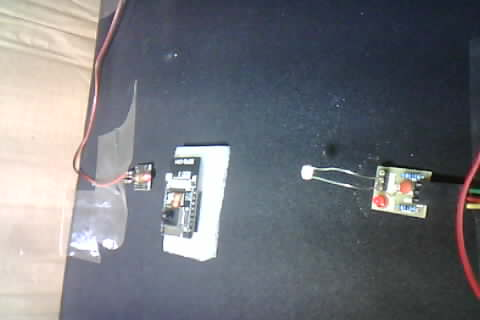esp32: (160, 143, 228, 260)
